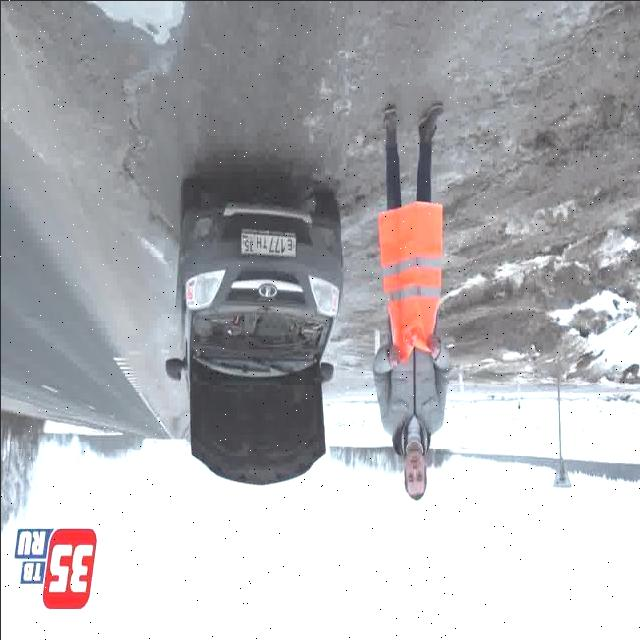Vest: (376, 197, 442, 367)
